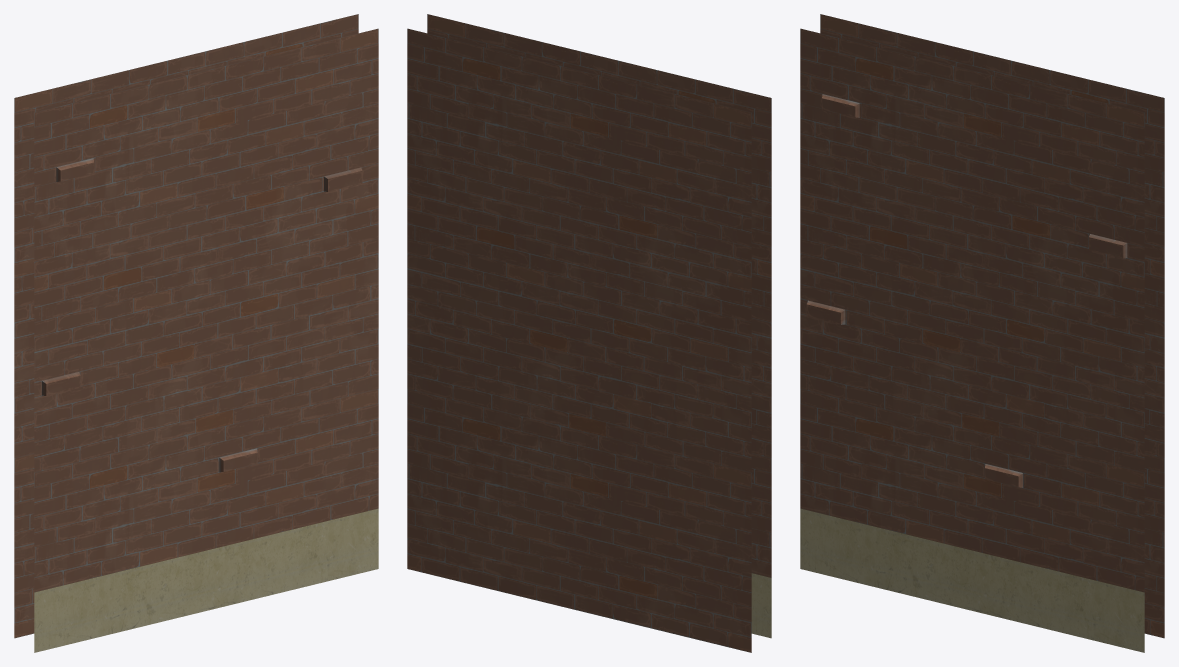
File: Brick_BottomTrim.gltf
3 views of the same model, side by side, from view 1: azimuth 30°, elevation 25°; view 2: azimuth 150°, elevation 25°; view 3: azimuth 330°, elevation 25° (orthographic).
Visible parts, largest first — view 1: Brick_BottomTrim; view 2: Brick_BottomTrim; view 3: Brick_BottomTrim.
Part boxes in pixels (x1,y1,x2,y2): Brick_BottomTrim: [14, 14, 378, 652]; Brick_BottomTrim: [407, 14, 771, 652]; Brick_BottomTrim: [800, 14, 1164, 652].
Size of the model in its own units: 2 by 3 by 0.229.
Materials: 3 (3 with a texture image).
